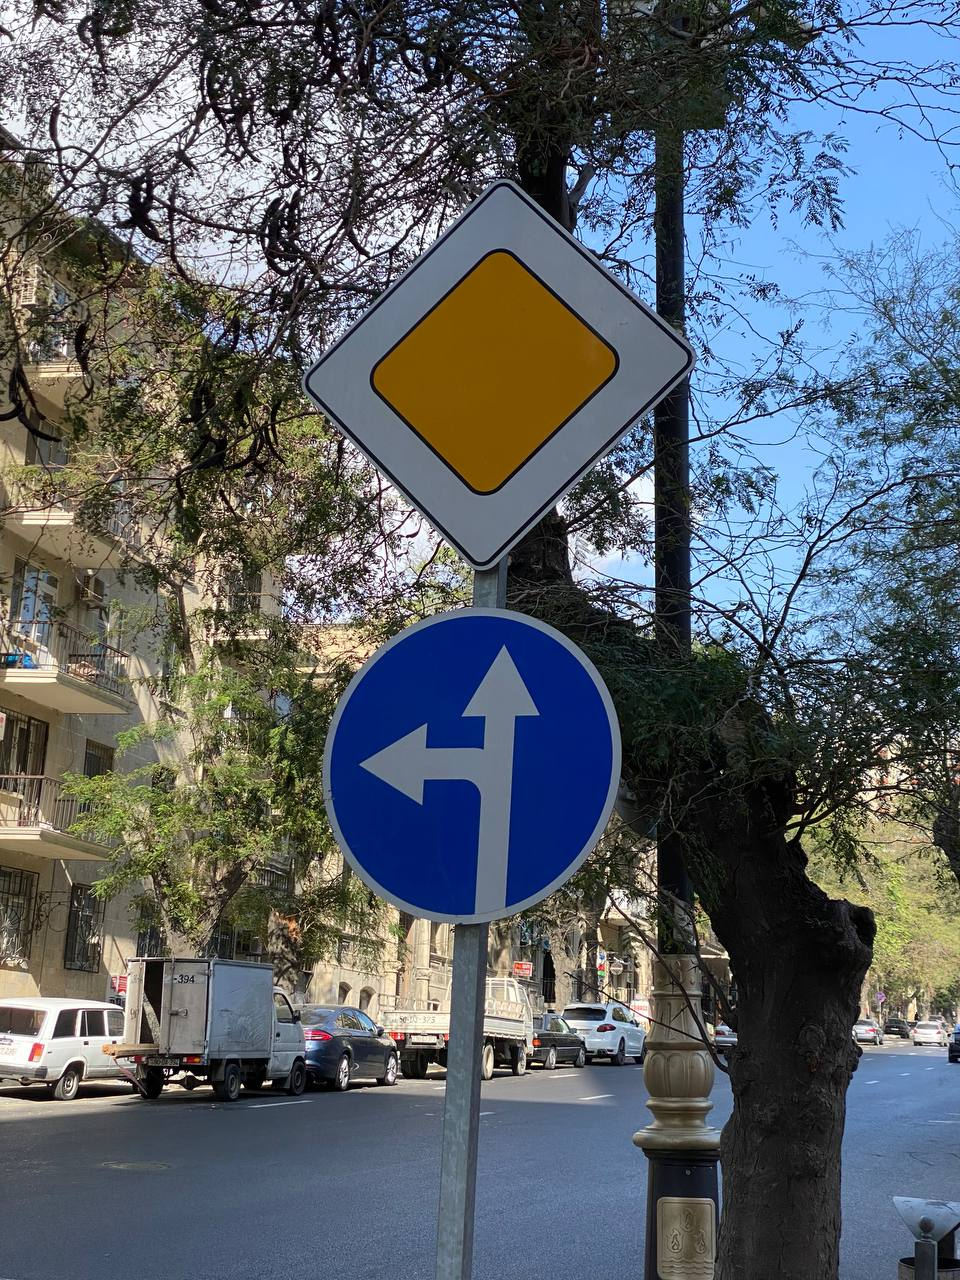Main Road: (303, 179, 697, 570)
Straight or Left: (322, 609, 622, 925)
